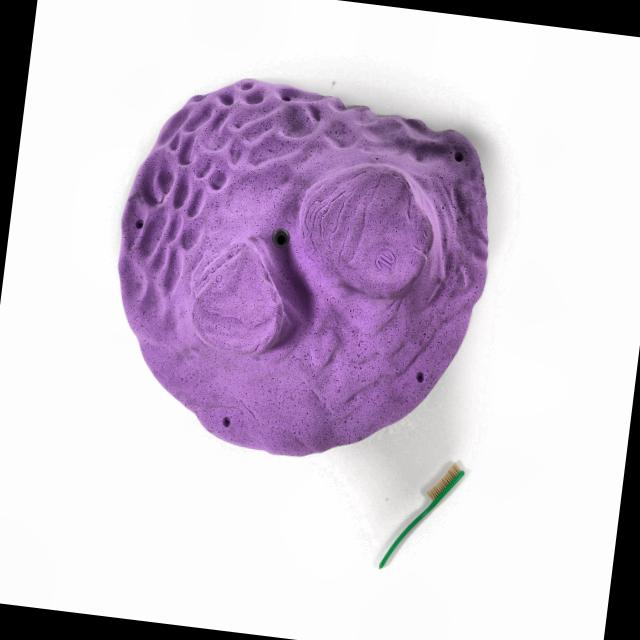Hold: (90, 68, 507, 474)
